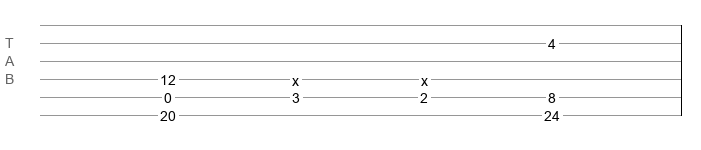0: (164, 90, 172, 100)
12: (160, 72, 176, 82)
2: (420, 90, 428, 100)
20: (160, 108, 176, 118)
24: (544, 108, 560, 118)
3: (292, 90, 300, 100)
4: (548, 36, 556, 46)
8: (548, 90, 556, 100)
x: (292, 73, 299, 81), (421, 73, 428, 81)
